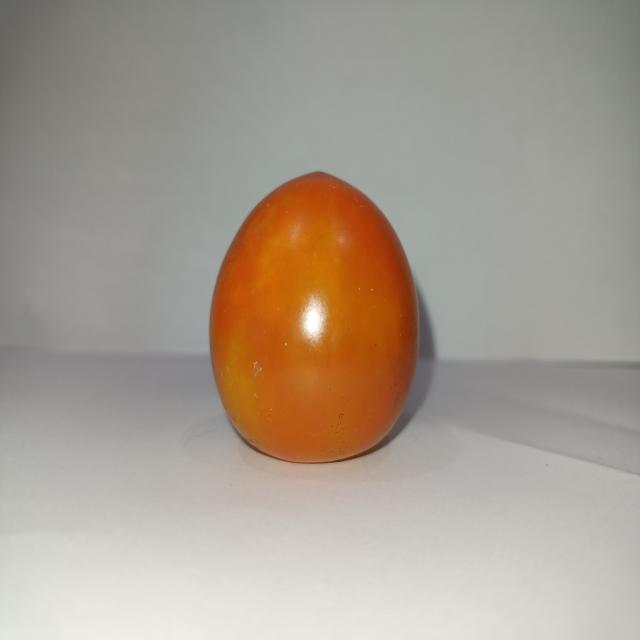Red: (207, 169, 420, 464)
